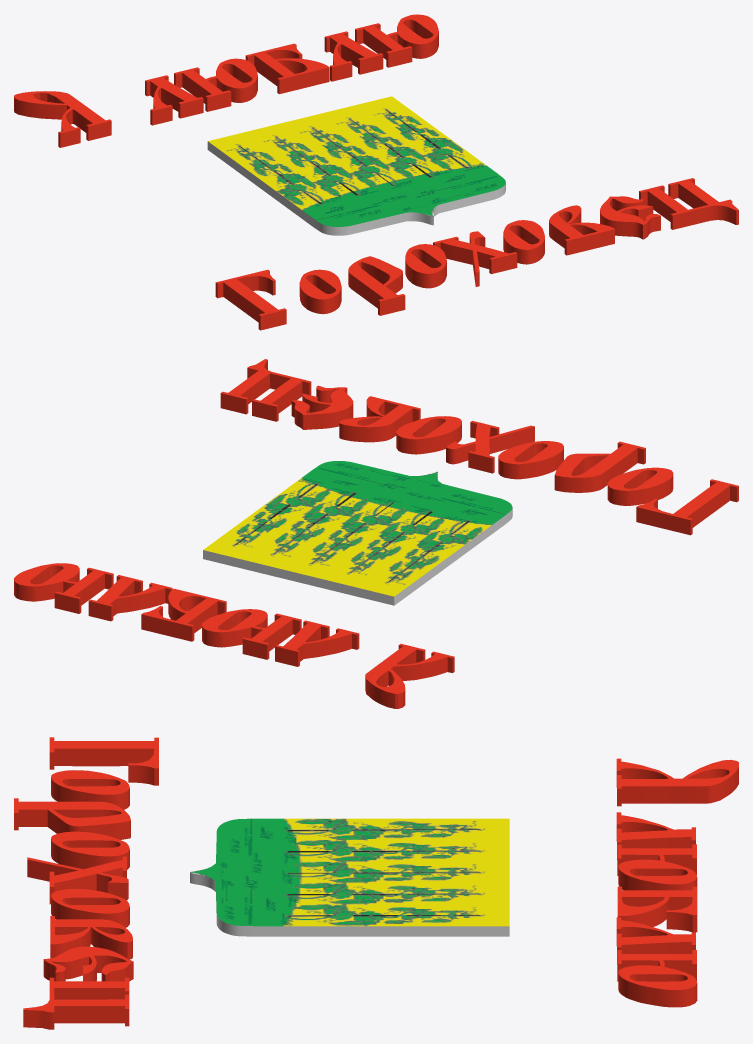
The picture shows the model from 3 angles, top to bottom: view 1: azimuth 30°, elevation 25°; view 2: azimuth 150°, elevation 25°; view 3: azimuth 270°, elevation 25°; orthographic projection. The views are drawn at different scales.
Parts seen in each view (by area): view 1: Plane.003; view 2: Plane.003; view 3: Plane.003.
Part boxes in pixels (x1,y1,x2,y2): Plane.003: [14, 14, 738, 330]; Plane.003: [14, 359, 738, 708]; Plane.003: [14, 737, 738, 1029].
Size of the model in its own units: 1.98 by 0.0582 by 2.2.
3 materials, 1 textured.
